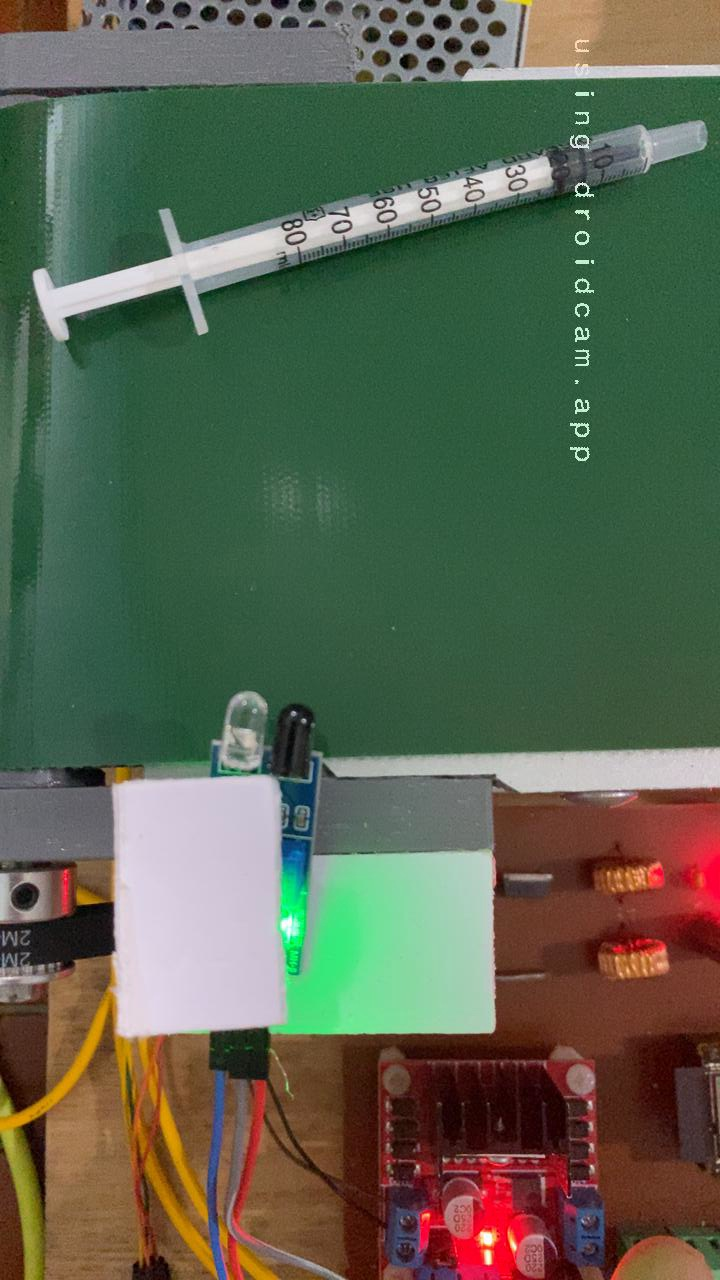syringe: (25, 114, 714, 350)
